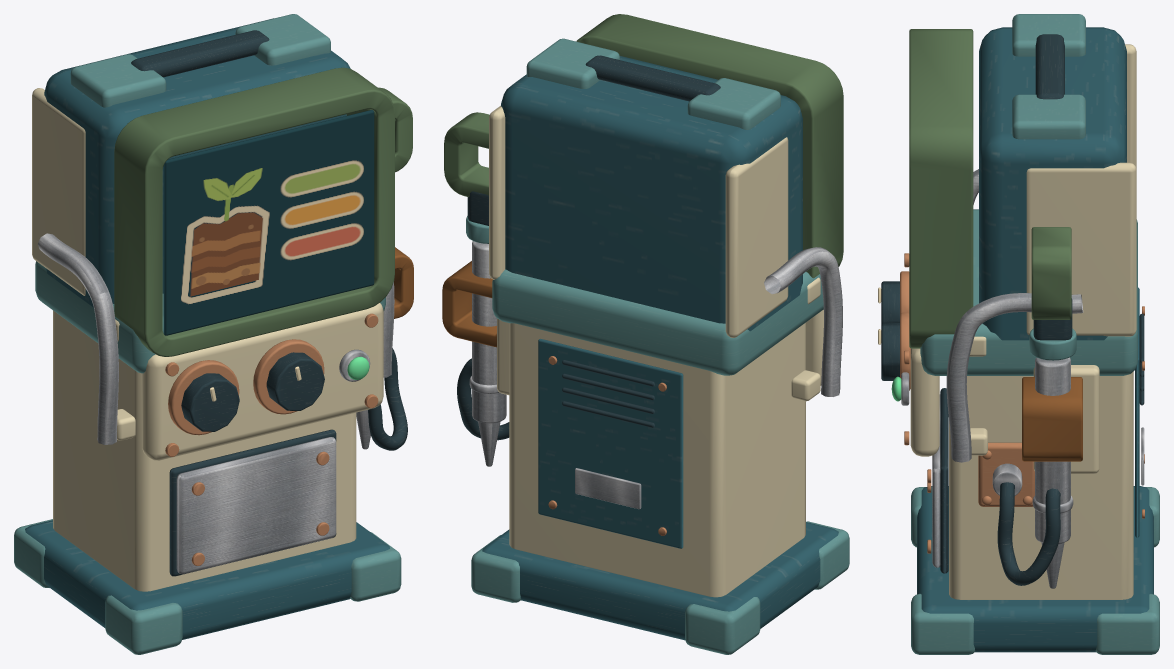
Rendered from SoilScanner_Cozy_LOD0.fbx.
3 renders of one model, left to right at view 1: azimuth 30°, elevation 25°; view 2: azimuth 150°, elevation 25°; view 3: azimuth 270°, elevation 25°, orthographic. The views are drawn at different scales.
Visible parts, largest first — view 1: ScannerMesh_Distance0; view 2: ScannerMesh_Distance0; view 3: ScannerMesh_Distance0.
Boxes of the visible parts, <box> form: ScannerMesh_Distance0: <box>14,14,413,654</box>; ScannerMesh_Distance0: <box>442,14,849,654</box>; ScannerMesh_Distance0: <box>878,14,1159,654</box>.
Bounding box in the file's own units: 104 × 150 × 72.5.
